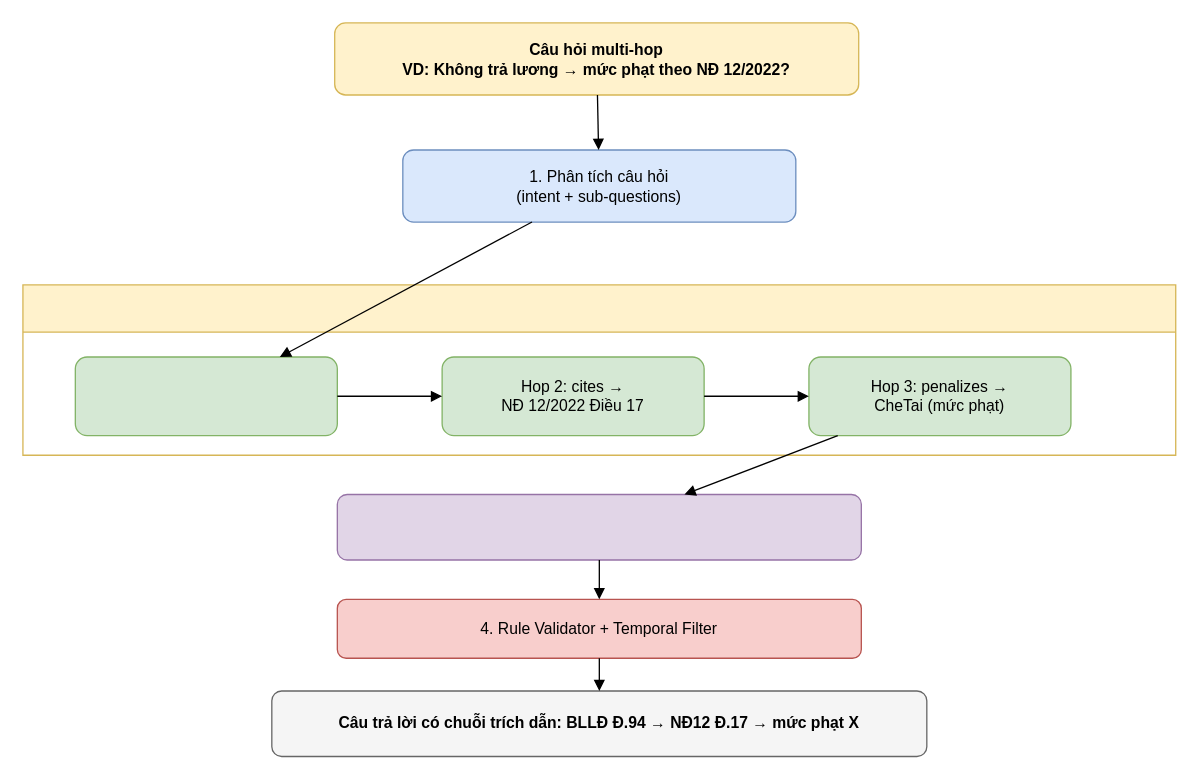
Image size: 1199x779. Some labels were removed from this diagram. The shapes that lost their labels are listed below. From the top down, each one's box as (x1, y1, x2, y2) in pixels, then its label:
(22, 284, 1176, 455): 2. Duyệt đồ thị theo quan hệ: cites, guided_by, penalizes, amends
(74, 356, 337, 436): Hop 1: BLLĐ Điều 94 (trách nhiệm trả lương)
(336, 493, 861, 560): 3. Tổng hợp evidence chain + text_units
